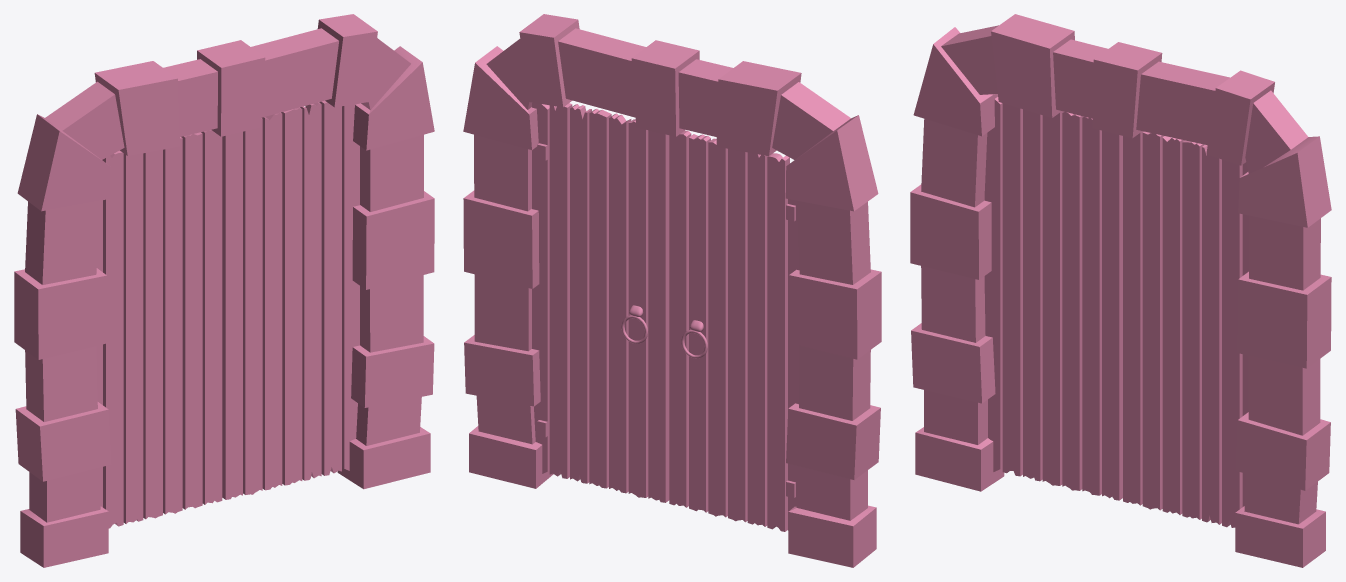
File: Door.fbx
3 renders of one model, left to right at view 1: azimuth 30°, elevation 25°; view 2: azimuth 150°, elevation 25°; view 3: azimuth 330°, elevation 25°, orthographic.
Visible parts, largest first — view 1: Door, DoorRockFrame; view 2: Door, DoorRockFrame, DoorRings; view 3: Door, DoorRockFrame.
Boxes of the visible parts, bbox=[...] form: Door: bbox=[96, 100, 359, 528]; DoorRockFrame: bbox=[14, 14, 434, 567]; Door: bbox=[532, 102, 799, 531]; DoorRockFrame: bbox=[463, 14, 881, 567]; DoorRings: bbox=[621, 305, 707, 358]; Door: bbox=[984, 97, 1248, 527]; DoorRockFrame: bbox=[910, 14, 1331, 567].
Bounding box in the file's own units: 46.26 × 5.22 × 51.6.
